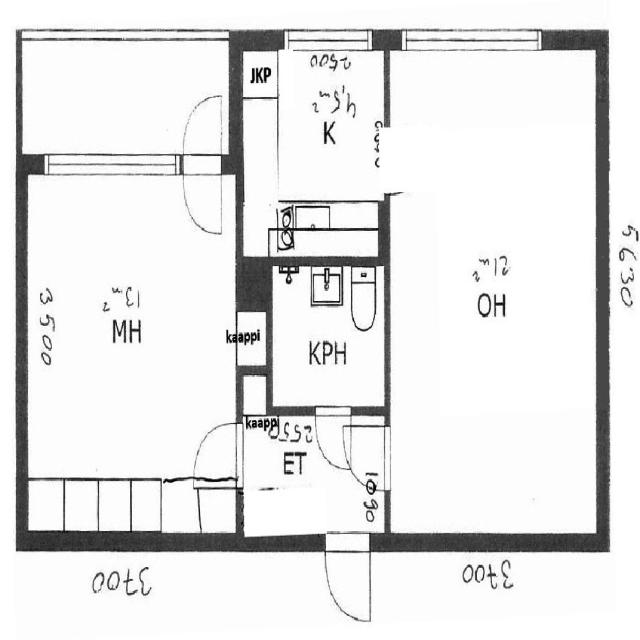door: (263, 402, 388, 541), (175, 86, 229, 241), (317, 527, 378, 629), (336, 407, 394, 501), (186, 409, 243, 486), (311, 402, 355, 478)
window: (38, 142, 180, 186), (399, 27, 547, 64), (279, 25, 376, 58), (375, 418, 399, 504)
zone: (390, 72, 601, 510), (26, 166, 236, 511), (238, 40, 389, 256), (238, 403, 390, 548), (264, 256, 391, 414)
